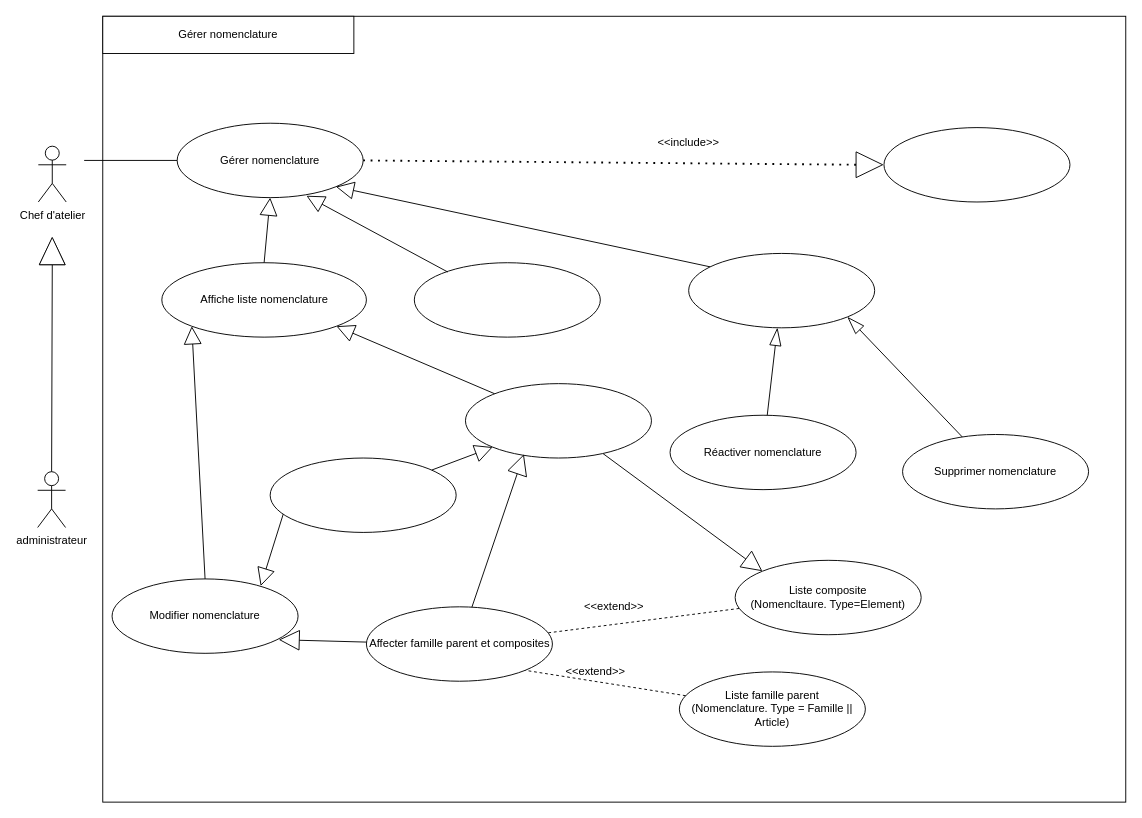
The diagram is 1142 pixels wide and 818 high, and some of its shapes have lost their labels. The centre of each missing label's shape, as x and y in pixels:
"Affecter etape production" belongs at [362,494].
"Affiche hiérarchie nomenclature" belongs at [506,299].
"Affiche liste nomenclature en veille" belongs at [781,290].
"Ajouter nomenclature" belongs at [558,420].
"S'authentifier" belongs at [976,164].
